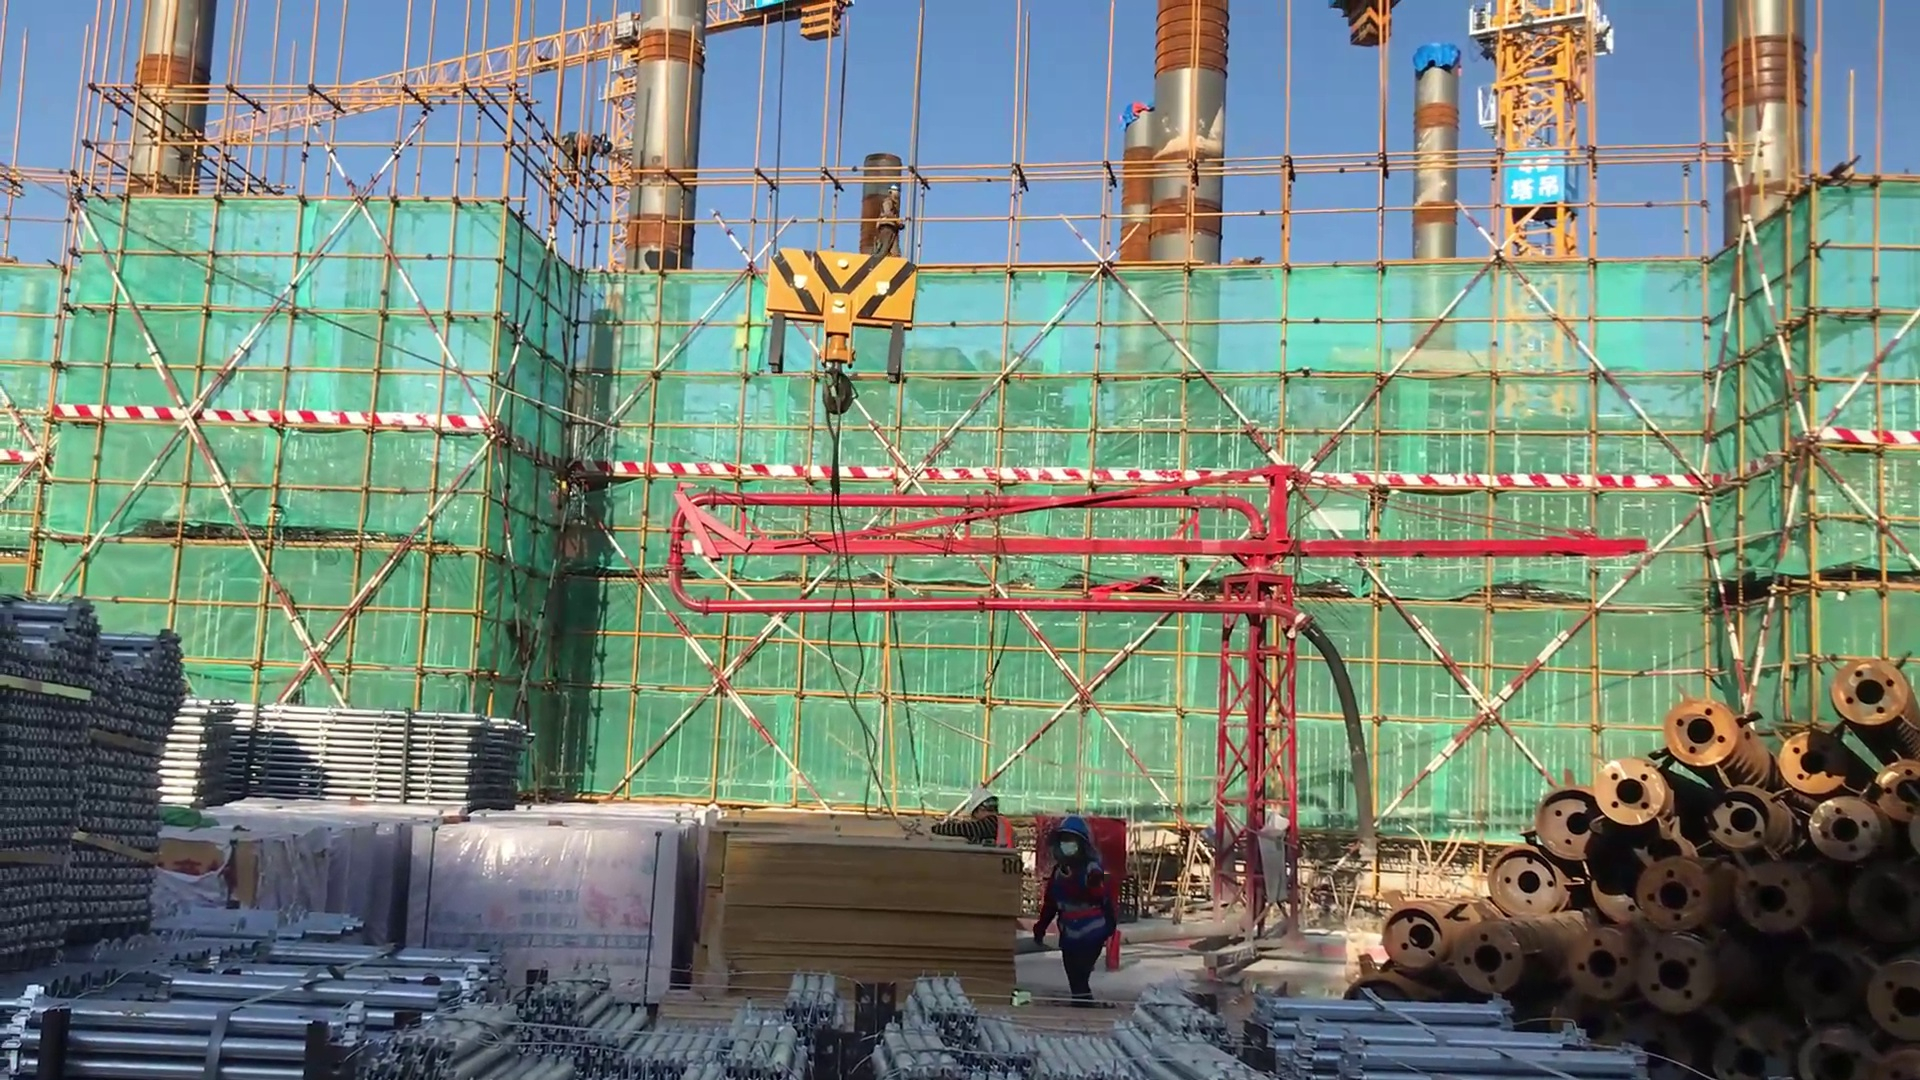board: (700, 812, 1026, 997)
helmet: (1048, 810, 1093, 863), (964, 785, 1001, 824)
hook: (737, 232, 920, 438)
person: (1038, 813, 1121, 1012), (915, 780, 1022, 845), (862, 179, 915, 260)
scaffold: (1, 909, 527, 1077), (1, 595, 209, 968), (784, 967, 1202, 1080), (155, 694, 548, 807), (1241, 980, 1652, 1080), (529, 973, 795, 1080)
slogan: (1504, 155, 1573, 209)
vest: (1046, 859, 1116, 942), (976, 814, 1017, 846)
